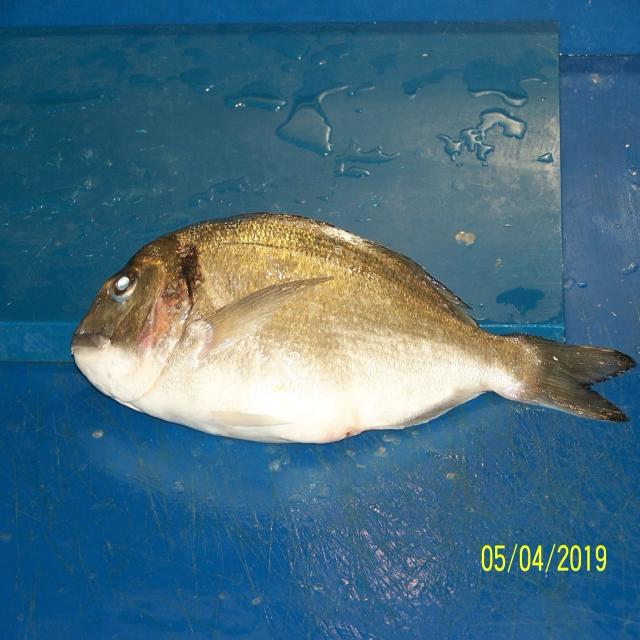Gilt-Head-Bream-c-ipura-: (70, 213, 634, 446)
